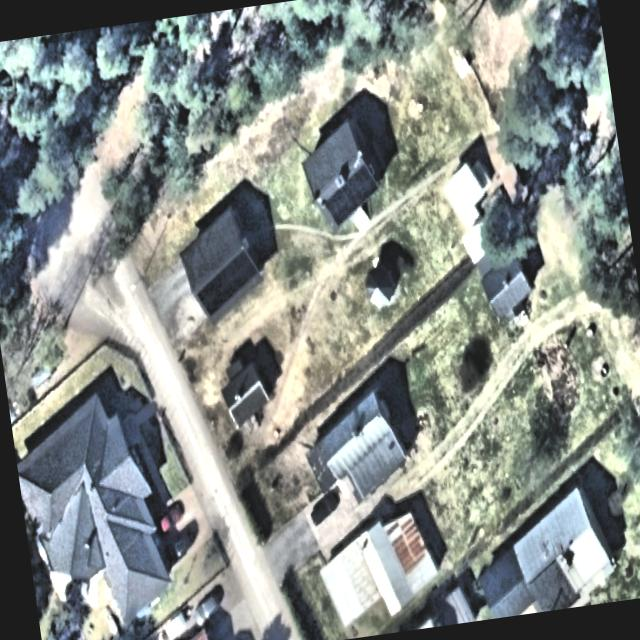roof_pv: (219, 248, 261, 299), (322, 179, 358, 229), (195, 270, 228, 322), (350, 162, 382, 206)
